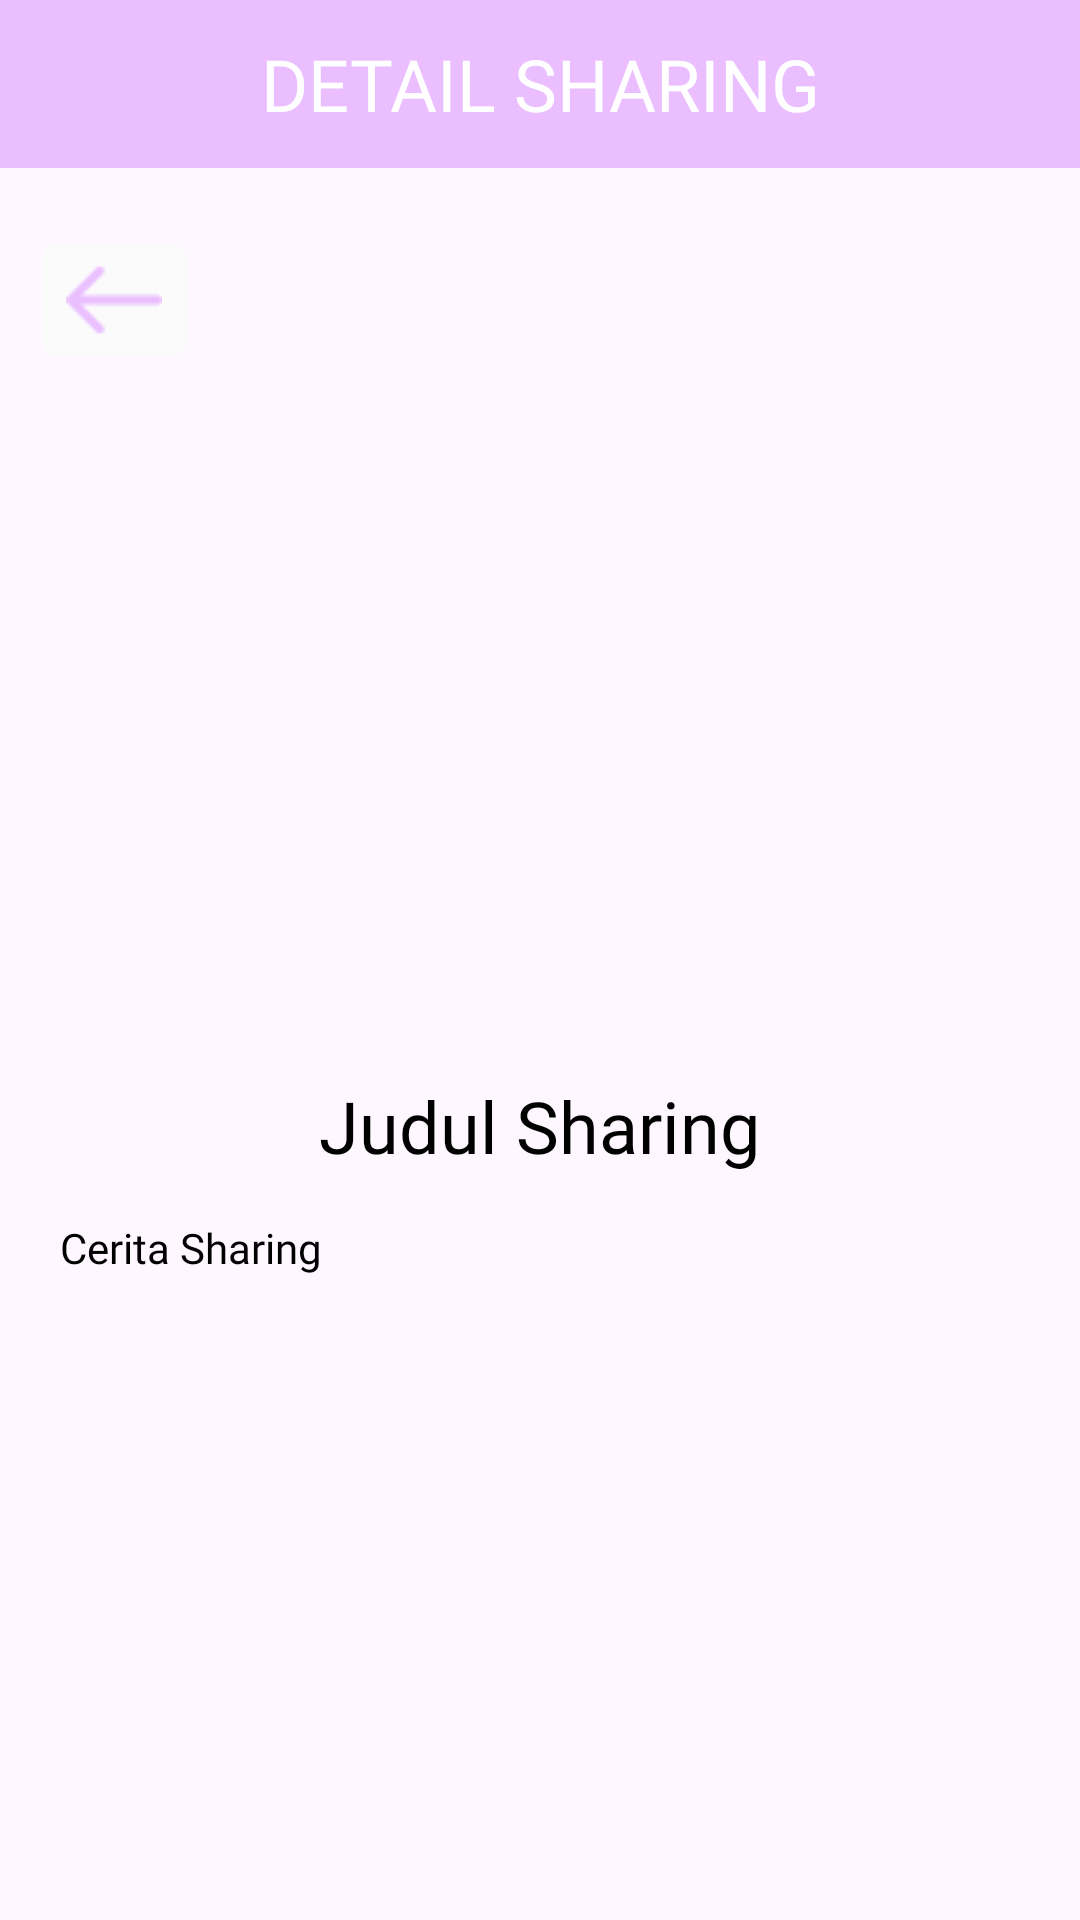

Screen size 1080 × 1920. Icon name, then its center in pixels as (x=x, y=y):
Back: (x=114, y=300)
